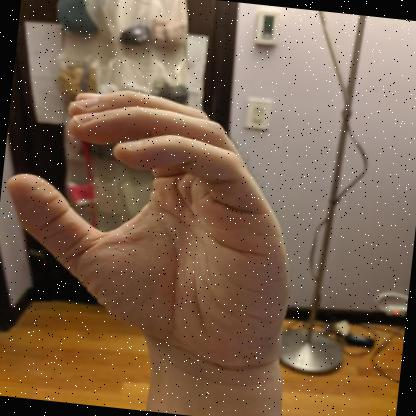C: (7, 89, 291, 374)
